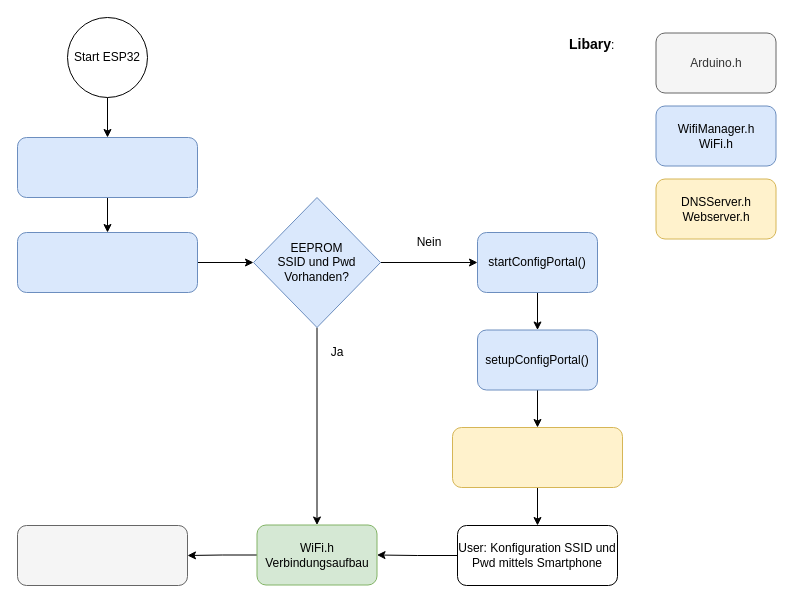
This 794x603 diagram has some shape labels left out. Each missing label, with the box of its shape:
ESP ist ins Netzwerk verbunden und kann weitere Befehle ausführen: (16, 524, 188, 586)
Initialisierung WiFiManager: (16, 136, 198, 198)
Initialsierung DNS Server Initialsierung WEB Server AP von ESP wird eröffnet: (452, 426, 622, 488)
wifiManager.autoConnect(): (16, 232, 198, 292)
